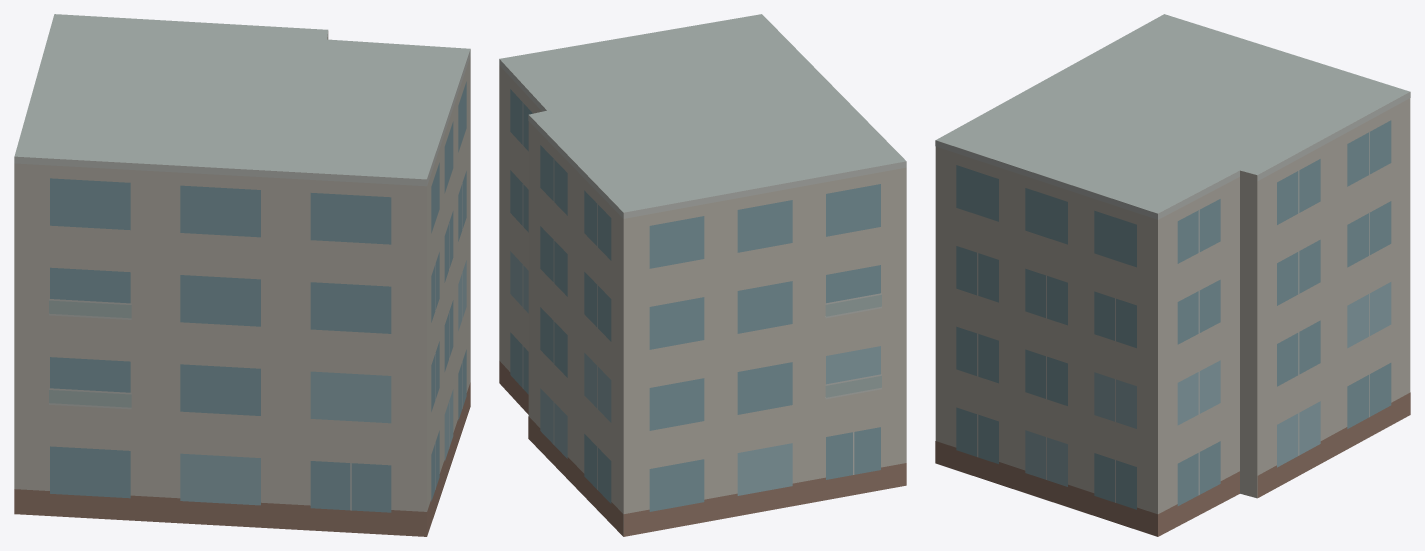
Rendered from survey-upis-32641689.glb.
3 views of the same model, side by side, from view 1: azimuth 30°, elevation 25°; view 2: azimuth 150°, elevation 25°; view 3: azimuth 270°, elevation 25° (orthographic). The views are drawn at different scales.
Parts seen in each view (by area): view 1: survey-upis-32641689.tmp; view 2: survey-upis-32641689.tmp; view 3: survey-upis-32641689.tmp.
Boxes of the visible parts, x1,y1,x2,y2 form: survey-upis-32641689.tmp: (14, 14, 470, 536); survey-upis-32641689.tmp: (499, 14, 906, 536); survey-upis-32641689.tmp: (935, 14, 1410, 536).
Bounding box in the file's own units: 16.84 × 12.7 × 16.92.
